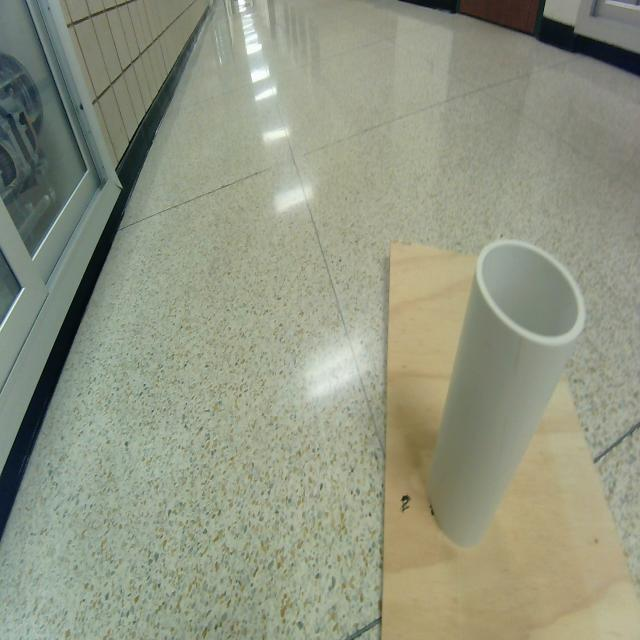coral: (427, 239, 586, 546)
